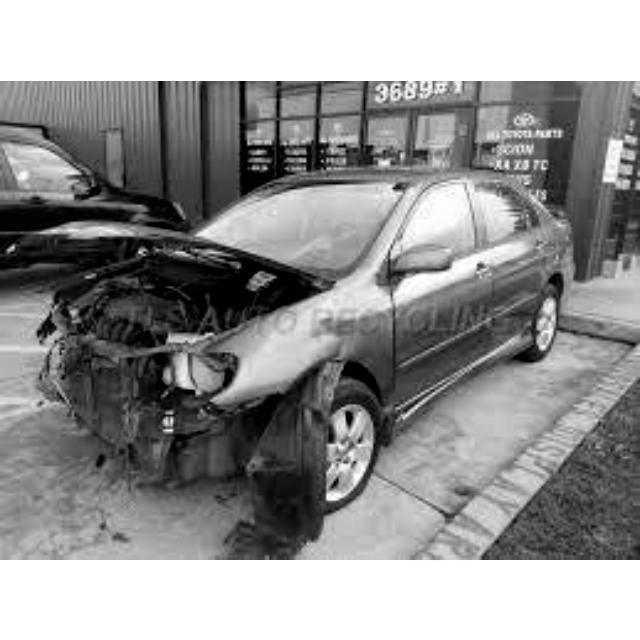bonnet-dent: (58, 204, 319, 292)
front-bumper-dent: (55, 342, 210, 448)
